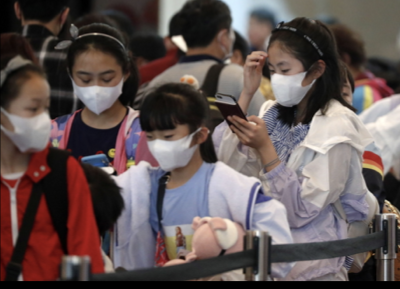with_mask: (143, 121, 199, 175), (70, 65, 125, 118), (5, 94, 51, 155), (267, 58, 318, 109)
